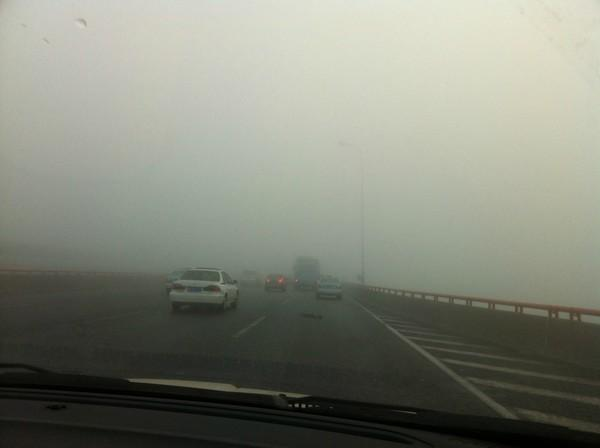bus: (293, 255, 321, 290)
car: (168, 264, 239, 311), (165, 266, 212, 296), (316, 274, 343, 298), (263, 271, 287, 292), (237, 267, 260, 287)
